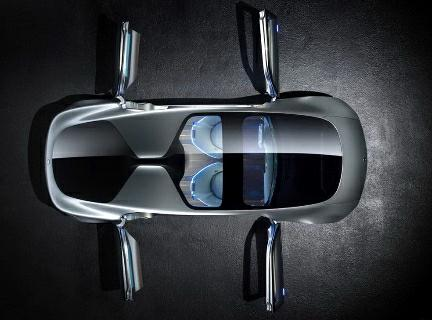奔驰-F015: (41, 95, 371, 226)
